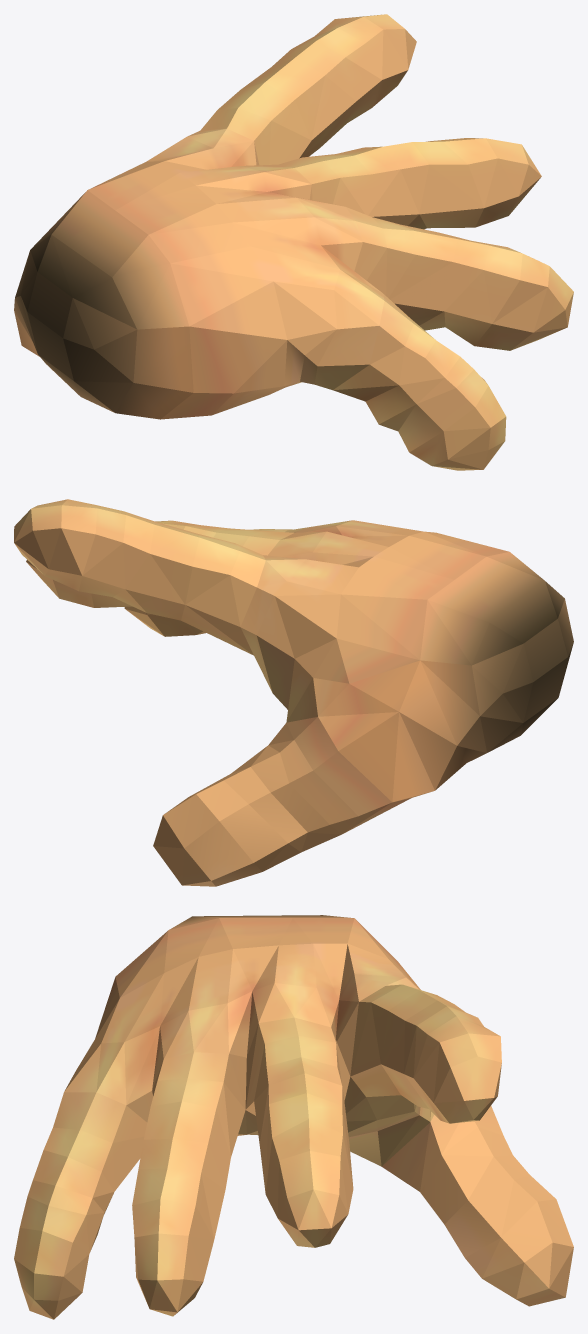
The model's file is right hand 3.obj.
3 views of the same model, one above another, from view 1: azimuth 30°, elevation 25°; view 2: azimuth 150°, elevation 25°; view 3: azimuth 270°, elevation 25° (orthographic). The views are drawn at different scales.
Visible parts, largest first — view 1: n0b0_n0b0.002; view 2: n0b0_n0b0.002; view 3: n0b0_n0b0.002.
Part boxes in pixels (x1,y1,x2,y2): n0b0_n0b0.002: [14, 14, 573, 470]; n0b0_n0b0.002: [14, 499, 573, 886]; n0b0_n0b0.002: [14, 915, 573, 1319].
Bounding box in the file's own units: 8.4 × 5.08 × 7.16.
Materials: 1 (1 with a texture image).
